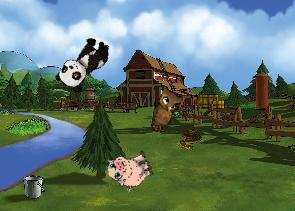owl: (150, 85, 185, 135)
panda: (52, 30, 115, 96)
pig: (103, 143, 157, 195)
